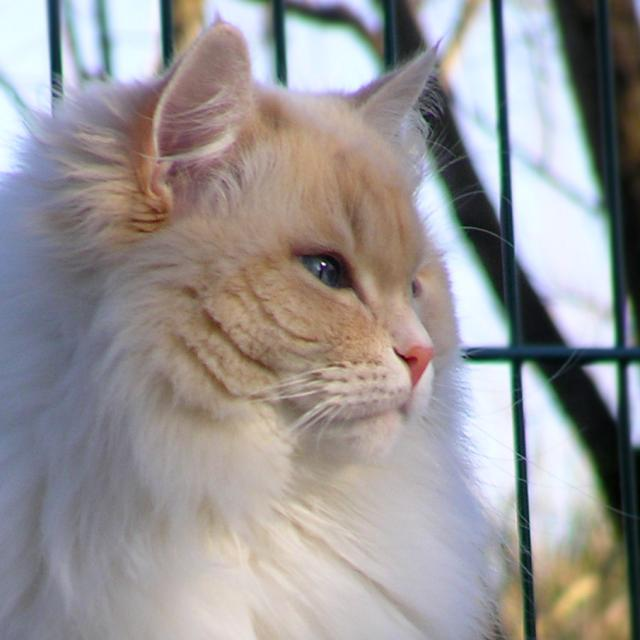Neva Masquerade: (0, 9, 512, 640)
